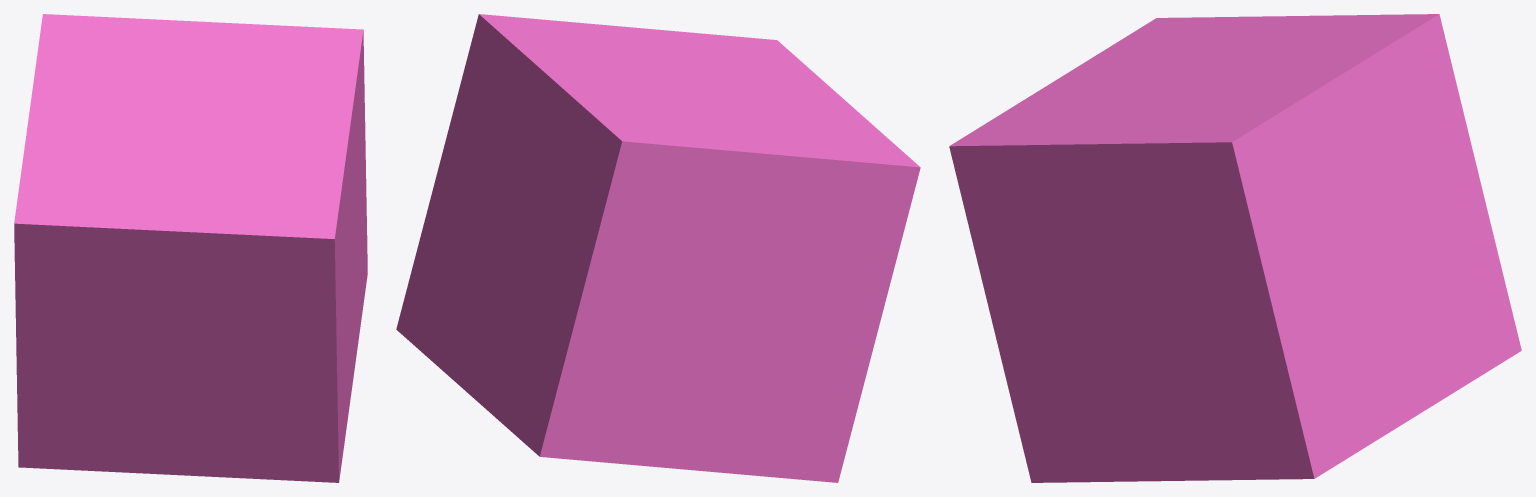
The model's file is InfoExpo_ElCirculoCaminaba.gltf.
3 renders of one model, left to right at view 1: azimuth 30°, elevation 25°; view 2: azimuth 150°, elevation 25°; view 3: azimuth 270°, elevation 25°, orthographic. The views are drawn at different scales.
Parts seen in each view (by area): view 1: InfoExpo_ElCirculoCaminaba; view 2: InfoExpo_ElCirculoCaminaba; view 3: InfoExpo_ElCirculoCaminaba.
Boxes of the visible parts, x1=… form: InfoExpo_ElCirculoCaminaba: x1=14, y1=14, x2=367, y2=482; InfoExpo_ElCirculoCaminaba: x1=396, y1=14, x2=920, y2=482; InfoExpo_ElCirculoCaminaba: x1=949, y1=14, x2=1521, y2=482.
Size of the model in its own units: 0.3263 by 0.2671 by 0.3408.
